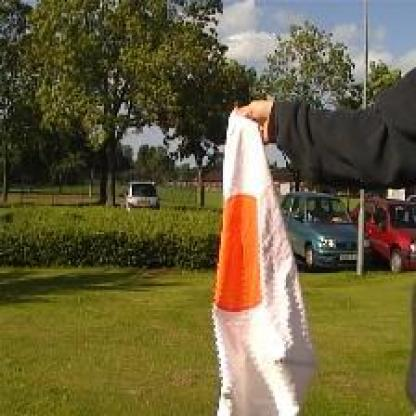other: (203, 152, 277, 333)
